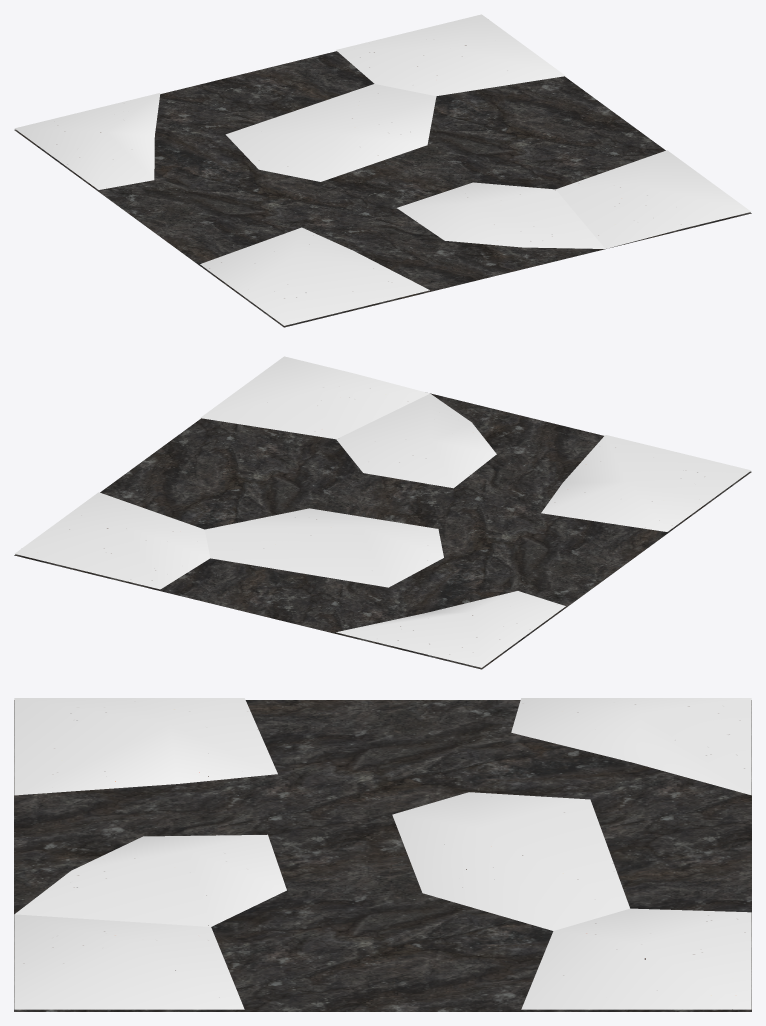
The model's file is Garden_01_Art.glb.
3 views of the same model, one above another, from view 1: azimuth 30°, elevation 25°; view 2: azimuth 150°, elevation 25°; view 3: azimuth 270°, elevation 25° (orthographic). The views are drawn at different scales.
Visible parts, largest first — view 1: Garden_01_Art; view 2: Garden_01_Art; view 3: Garden_01_Art.
Part boxes in pixels (x1,y1,x2,y2): Garden_01_Art: (14,14,751,327); Garden_01_Art: (14,356,751,669); Garden_01_Art: (14,698,751,1011).
Bounding box in the file's own units: 15.98 × 0.5007 × 15.98.
2 materials, 2 textured.
